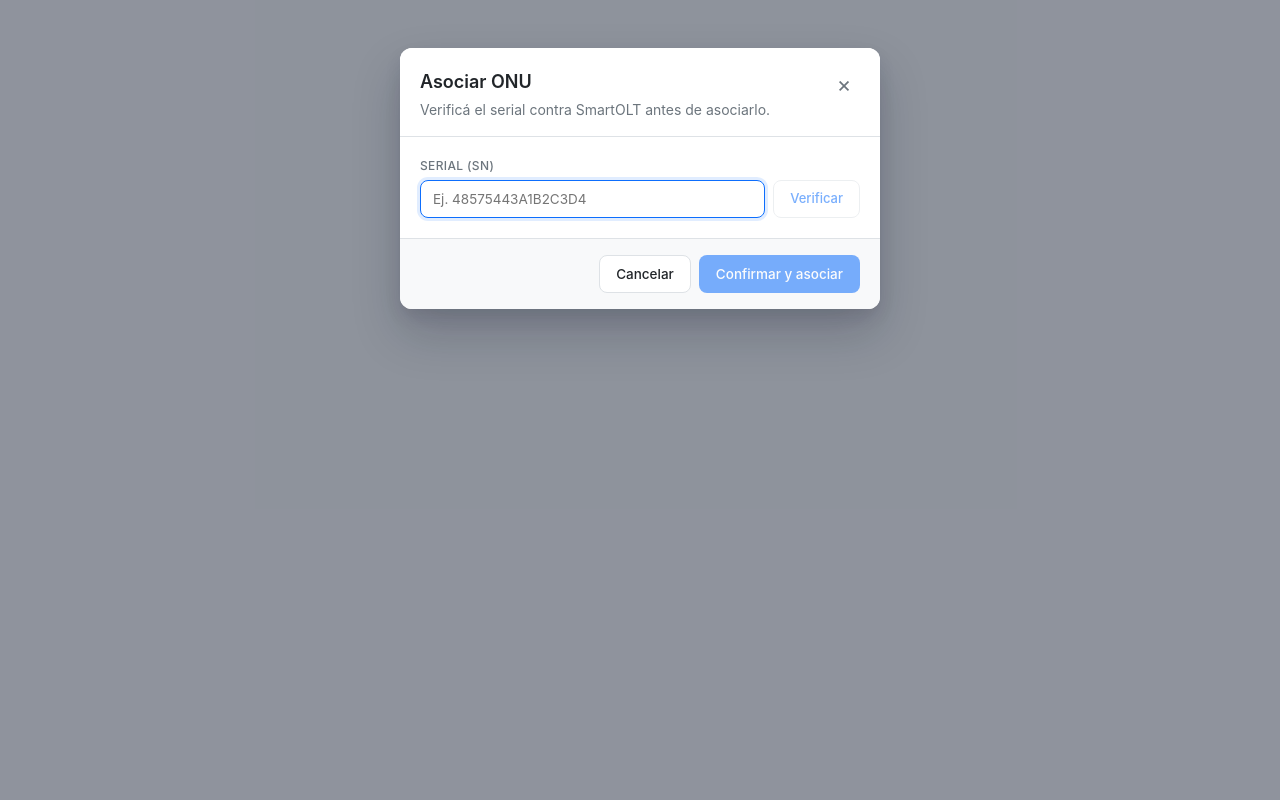
AssociateOnuModal › shows the "el serial no existe en SmartOLT" message when found:false, and disables confirm
Step 1. Type "BADSERIAL" into the field labelled "Serial (SN)" → x=593, y=199, box [420,180,765,218]
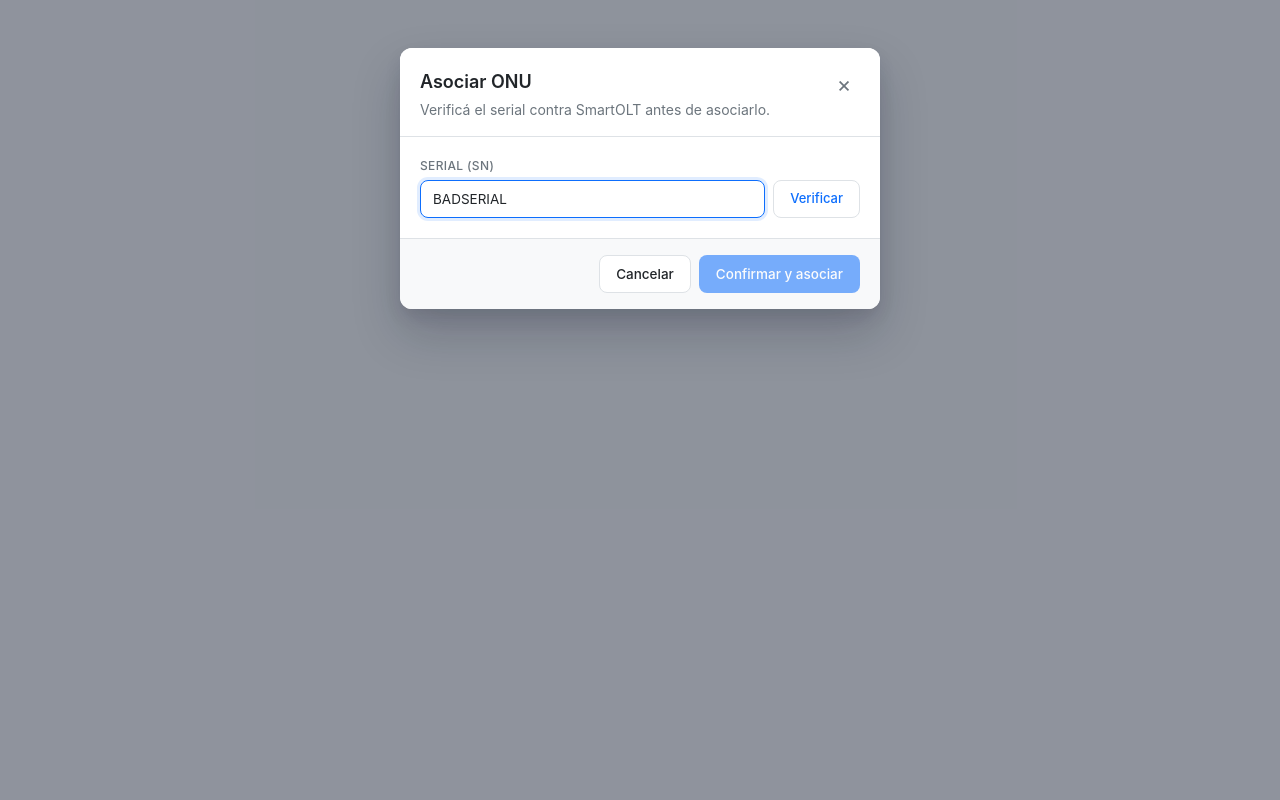
Step 2. Click the button "Verificar" → x=817, y=199, box [773,180,860,218]
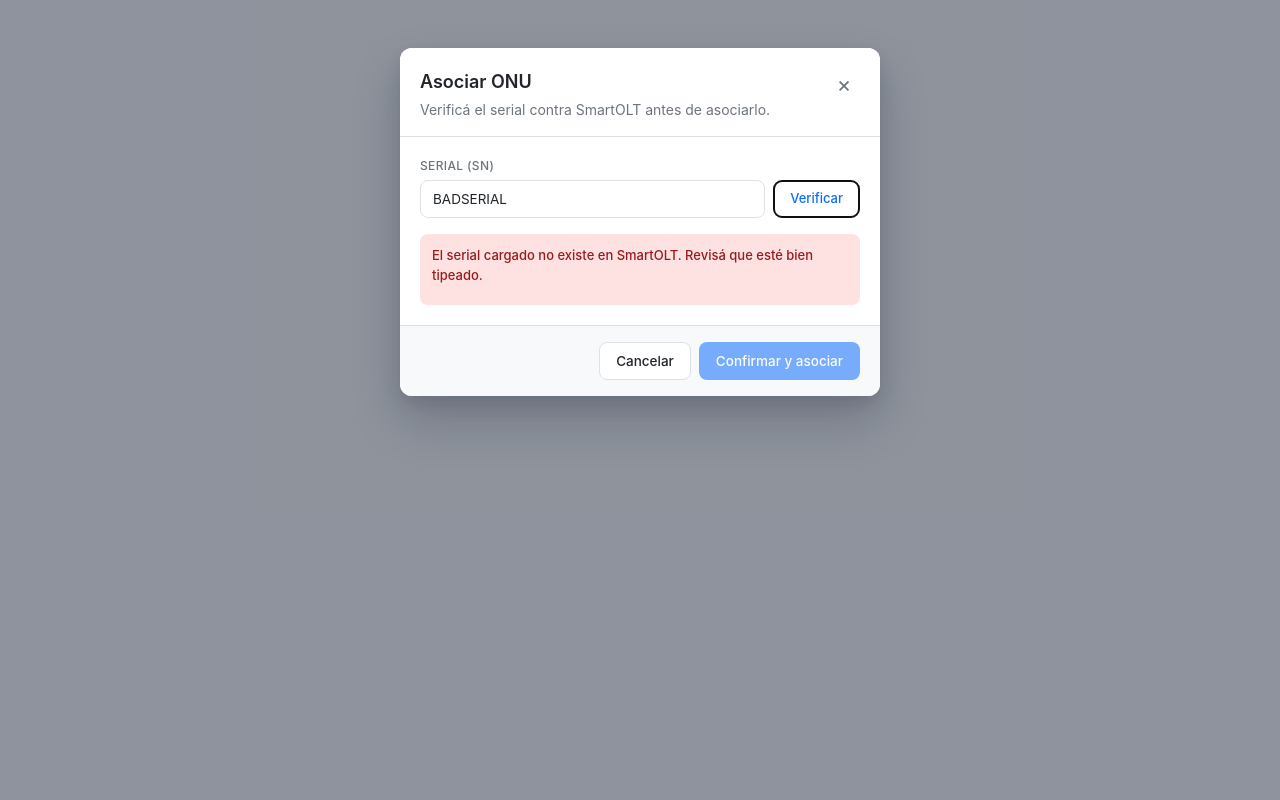
Expected: the button "Confirmar y asociar" is disabled, [699,342,860,380]
Expected: the text "no existe en SmartOLT" is shown, [432,247,813,282]
